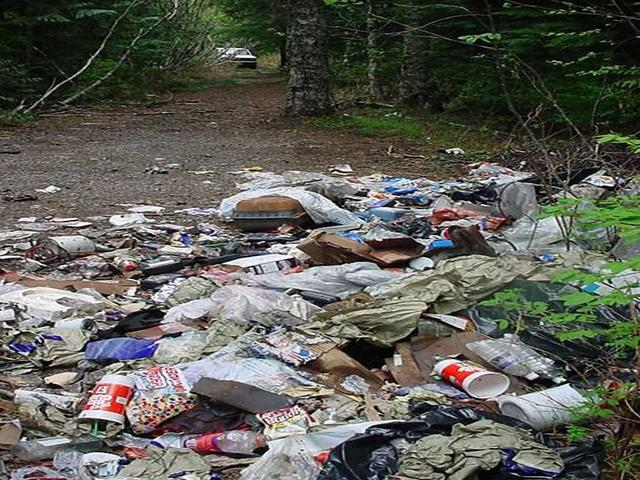garbage: (51, 221, 567, 462)
